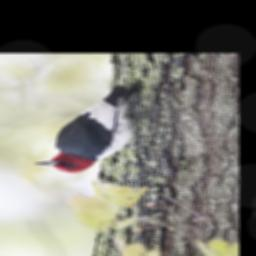Woodpecker: (34, 84, 137, 173)
